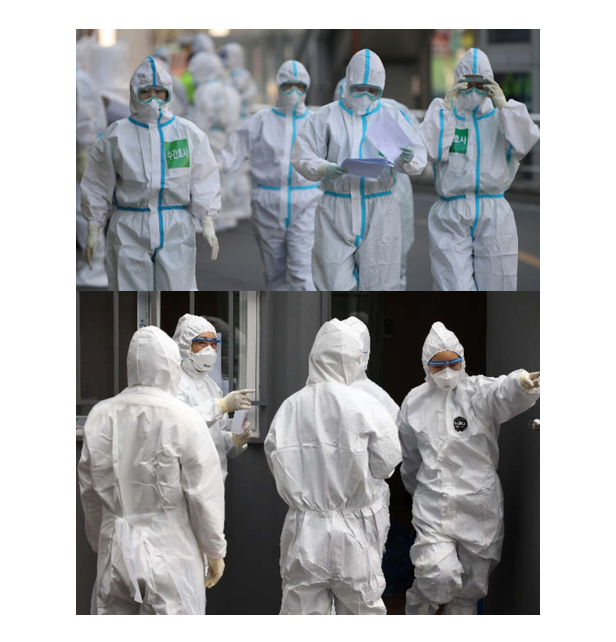Coverall: (76, 326, 225, 619), (397, 324, 541, 616), (267, 320, 400, 614), (86, 56, 219, 291), (296, 49, 424, 293), (422, 51, 539, 289), (245, 59, 319, 289), (176, 315, 255, 464)
Gloves: (80, 218, 108, 273), (197, 211, 226, 260), (218, 384, 257, 414), (484, 77, 506, 106), (440, 83, 463, 107), (322, 157, 346, 179)
Goggles: (425, 353, 465, 376), (347, 78, 384, 101), (136, 84, 171, 105), (457, 77, 494, 94), (278, 79, 306, 95)
